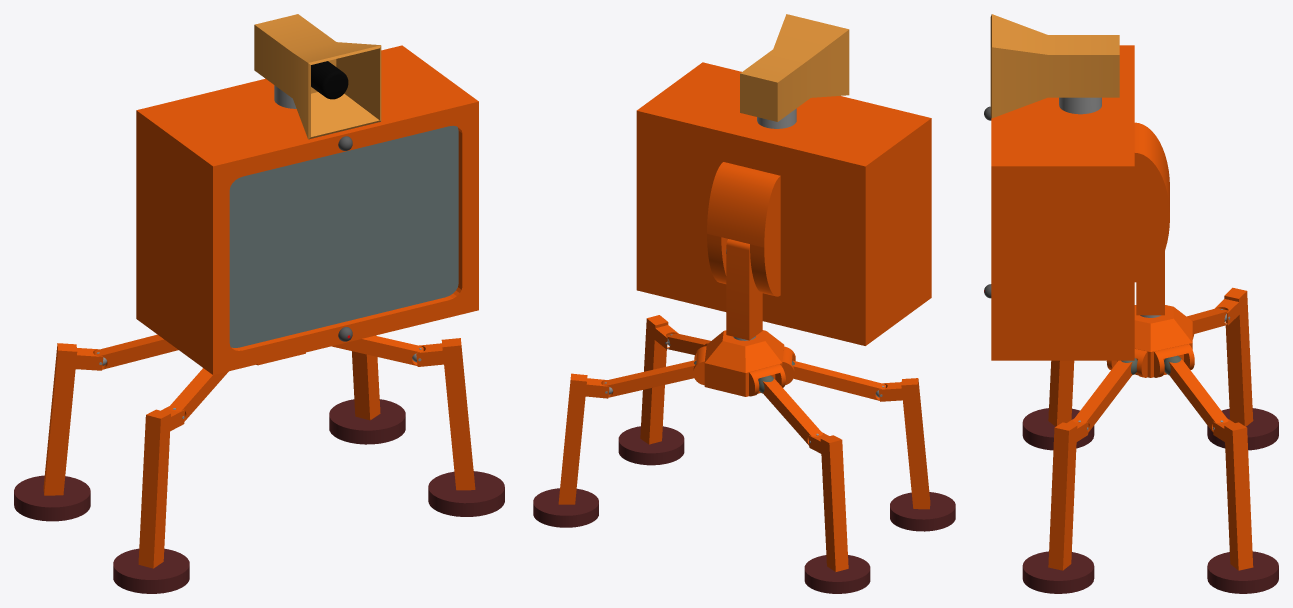
The model's file is Noman Thelife.fbx.
3 views of the same model, side by side, from view 1: azimuth 30°, elevation 25°; view 2: azimuth 150°, elevation 25°; view 3: azimuth 270°, elevation 25° (orthographic). The views are drawn at different scales.
Visible parts, largest first — view 1: usugata_monitor; view 2: usugata_monitor; view 3: usugata_monitor.
Part boxes in pixels (x1,y1,x2,y2): usugata_monitor: (14, 14, 504, 593); usugata_monitor: (533, 14, 955, 593); usugata_monitor: (984, 14, 1278, 593).
Size of the model in its own units: 57.4 by 41.23 by 73.5.
